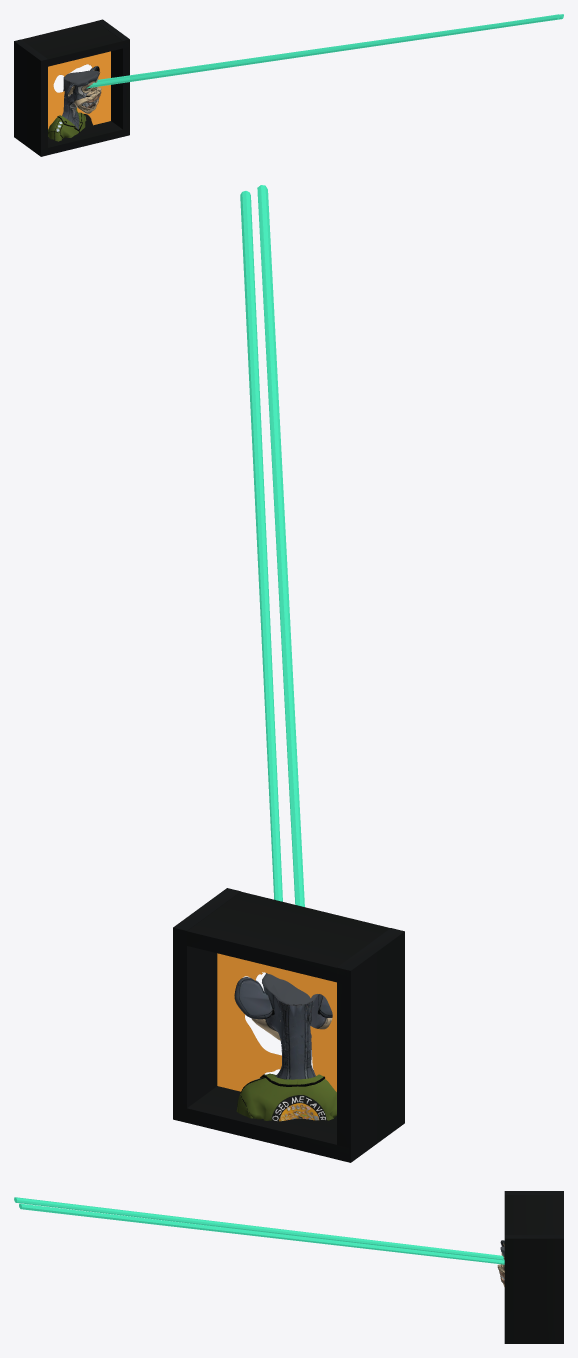
The model's file is gordon-900-opt-v1.glb.
3 views of the same model, one above another, from view 1: azimuth 30°, elevation 25°; view 2: azimuth 150°, elevation 25°; view 3: azimuth 270°, elevation 25° (orthographic). The views are drawn at different scales.
Visible parts, largest first — view 1: Cube.002; view 2: Cube.002; view 3: Cube.002.
Boxes of the visible parts, left/top/right/bottom form: Cube.002: left=14, top=14, right=563, bottom=156; Cube.002: left=173, top=185, right=404, bottom=1162; Cube.002: left=14, top=1191, right=563, bottom=1343.
Bounding box in the file's own units: 16.5 × 12.18 × 23.7.
Materials: 4 (4 with a texture image).
